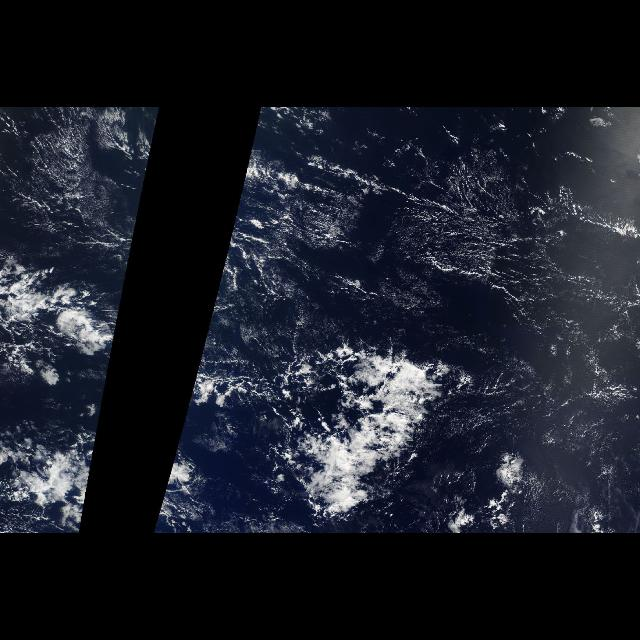Gravel: (393, 157, 639, 376), (7, 112, 143, 252)
